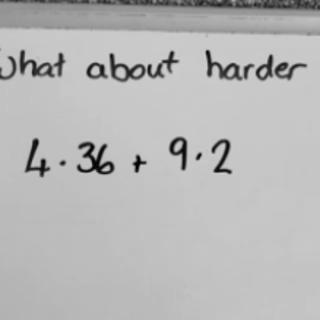.: (58, 153, 68, 169), (192, 150, 204, 162)
2: (210, 137, 234, 175)
3: (74, 140, 97, 174)
4: (26, 136, 50, 178)
6: (96, 141, 115, 176)
9: (168, 134, 188, 175)
